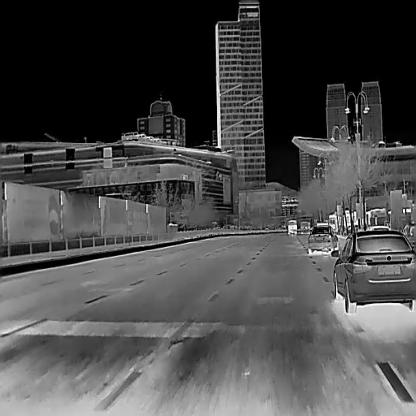bus: (382, 206, 416, 230), (328, 211, 369, 230), (366, 208, 387, 228), (286, 218, 296, 235)
car: (331, 228, 415, 313), (306, 224, 339, 255), (401, 219, 415, 245)
